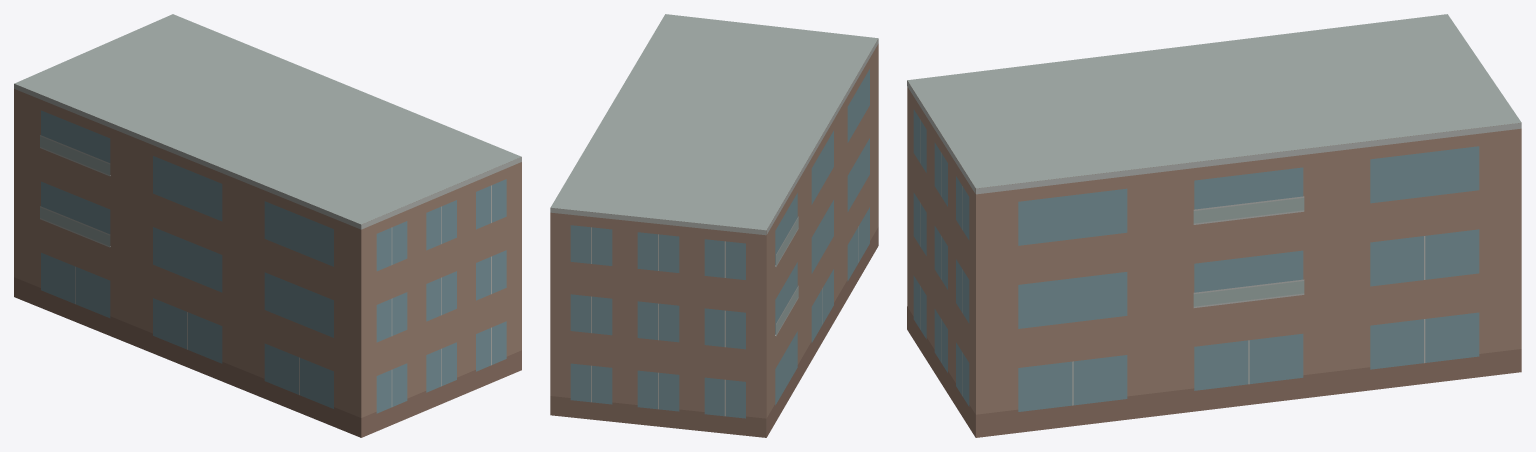
File: survey-upis-32592766.glb
3 renders of one model, left to right at view 1: azimuth 30°, elevation 25°; view 2: azimuth 150°, elevation 25°; view 3: azimuth 270°, elevation 25°, orthographic. The views are drawn at different scales.
Parts seen in each view (by area): view 1: survey-upis-32592766.tmp; view 2: survey-upis-32592766.tmp; view 3: survey-upis-32592766.tmp.
Part boxes in pixels (x1=…): survey-upis-32592766.tmp: x1=14, y1=14, x2=521, y2=437; survey-upis-32592766.tmp: x1=550, y1=14, x2=878, y2=437; survey-upis-32592766.tmp: x1=907, y1=14, x2=1521, y2=437.
Bounding box in the file's own units: 15.31 × 10.2 × 22.79.
